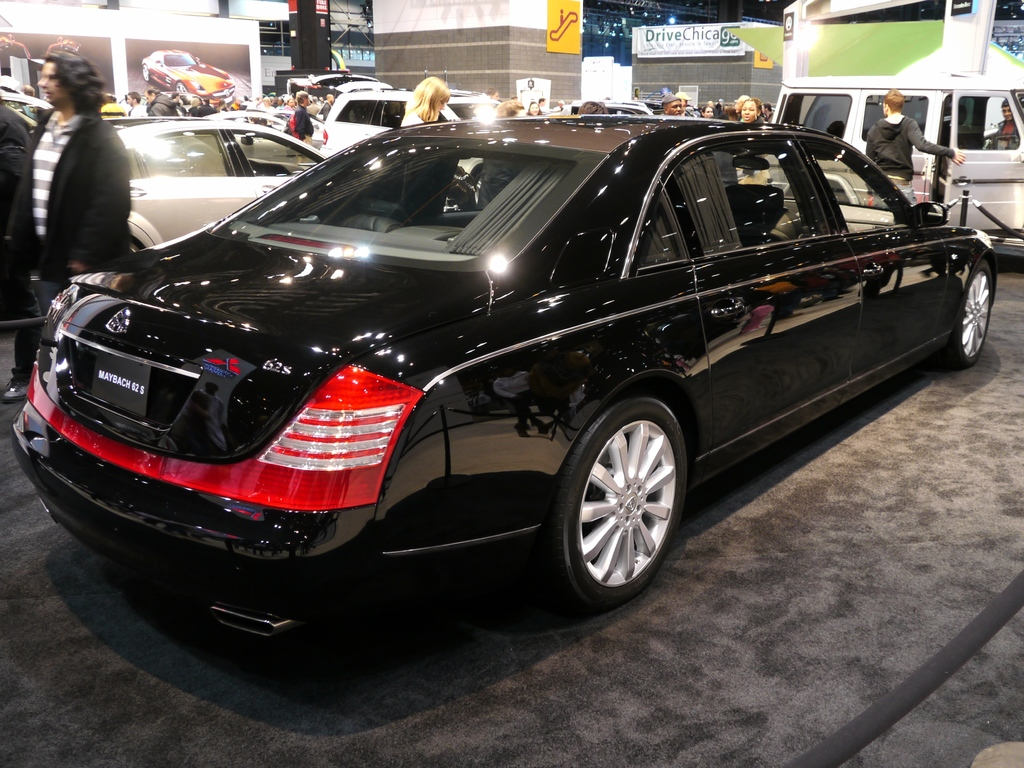Person: (0, 49, 1024, 400)
